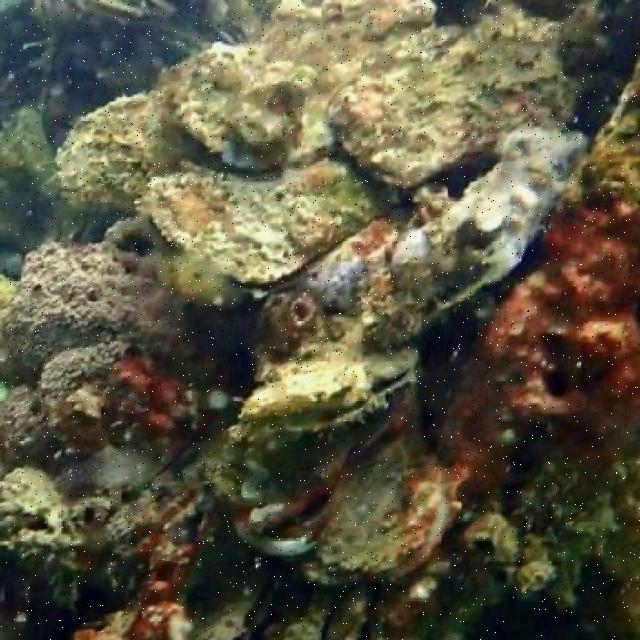Oyster-Closed: (324, 12, 584, 174), (163, 40, 337, 172), (143, 164, 324, 284), (43, 88, 191, 222), (55, 478, 177, 602), (0, 460, 78, 620)
Oyster-Open: (219, 340, 421, 448), (290, 444, 452, 578)
